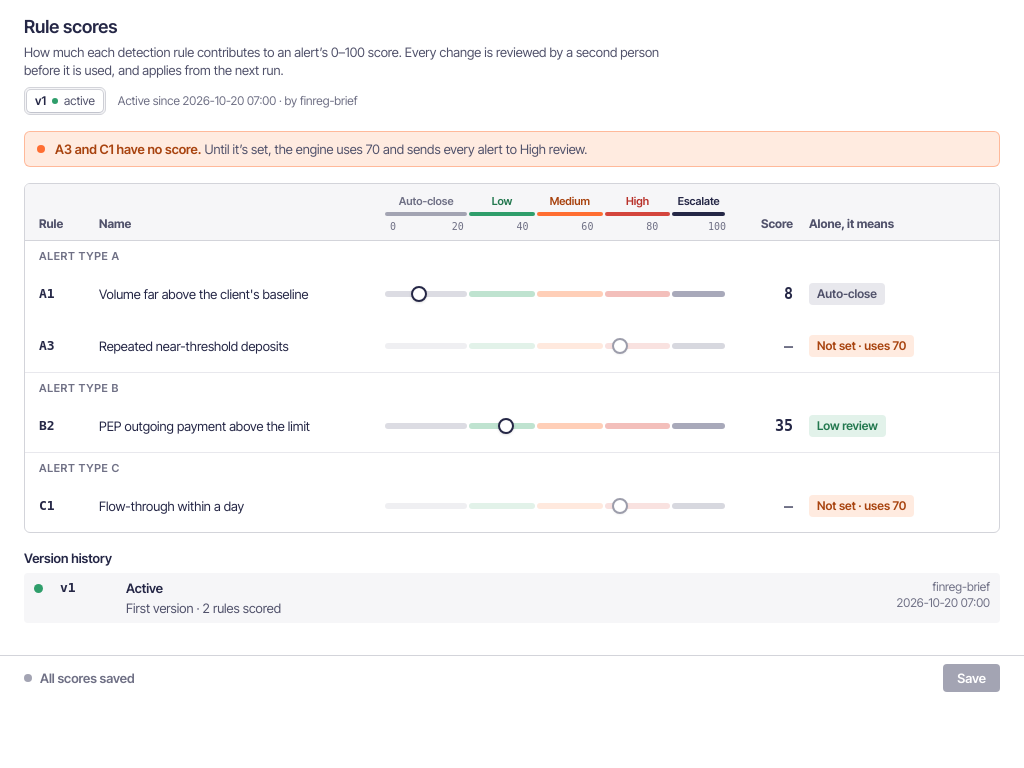
TriageScoringPage › reverts one rule to its stored score without asking the engine
This screenshot has width=1024, height=768.
Set the slider named "Score for A1" to "30" at (490, 294), box x1=385 y1=282 x2=725 y2=306
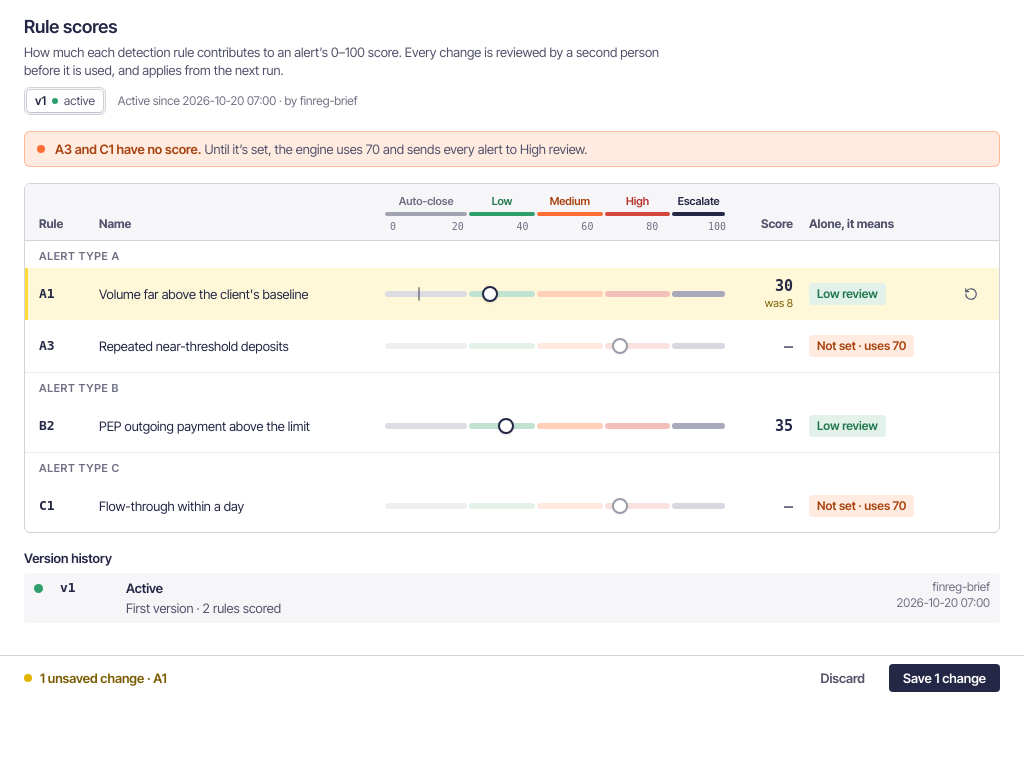
Set the slider named "Score for B2" to "50" at (555, 426), box x1=385 y1=414 x2=725 y2=438
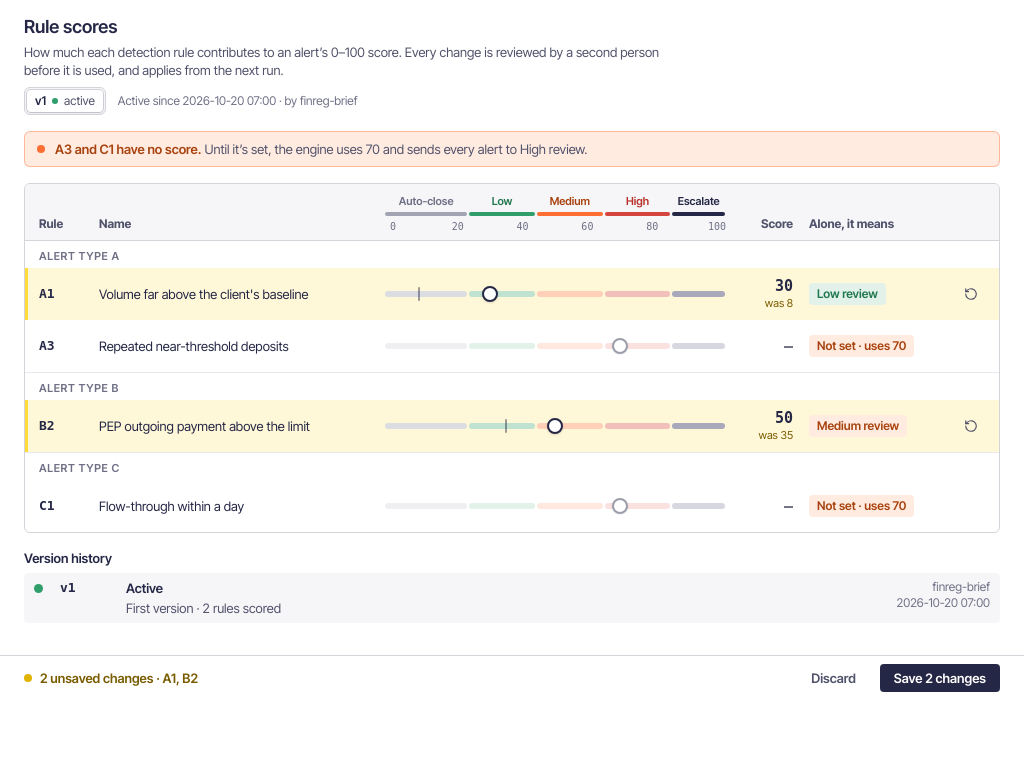
Now the text "2 unsaved changes · A1, B2" is shown, box x1=24 y1=669 x2=198 y2=688
Click the button named "Revert A1 to 8" at (971, 294), box x1=957 y1=280 x2=985 y2=308
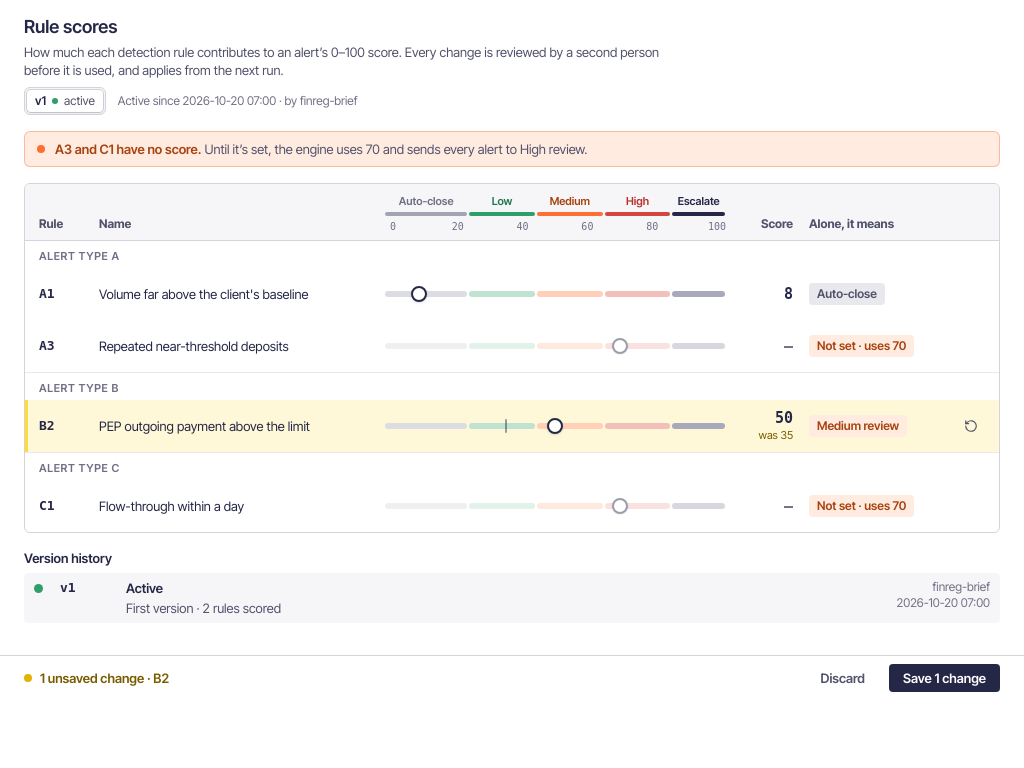
Now the slider named "Score for A1" holds "8", box x1=385 y1=282 x2=725 y2=306
Now the text "1 unsaved change · B2" is shown, box x1=24 y1=669 x2=169 y2=688
